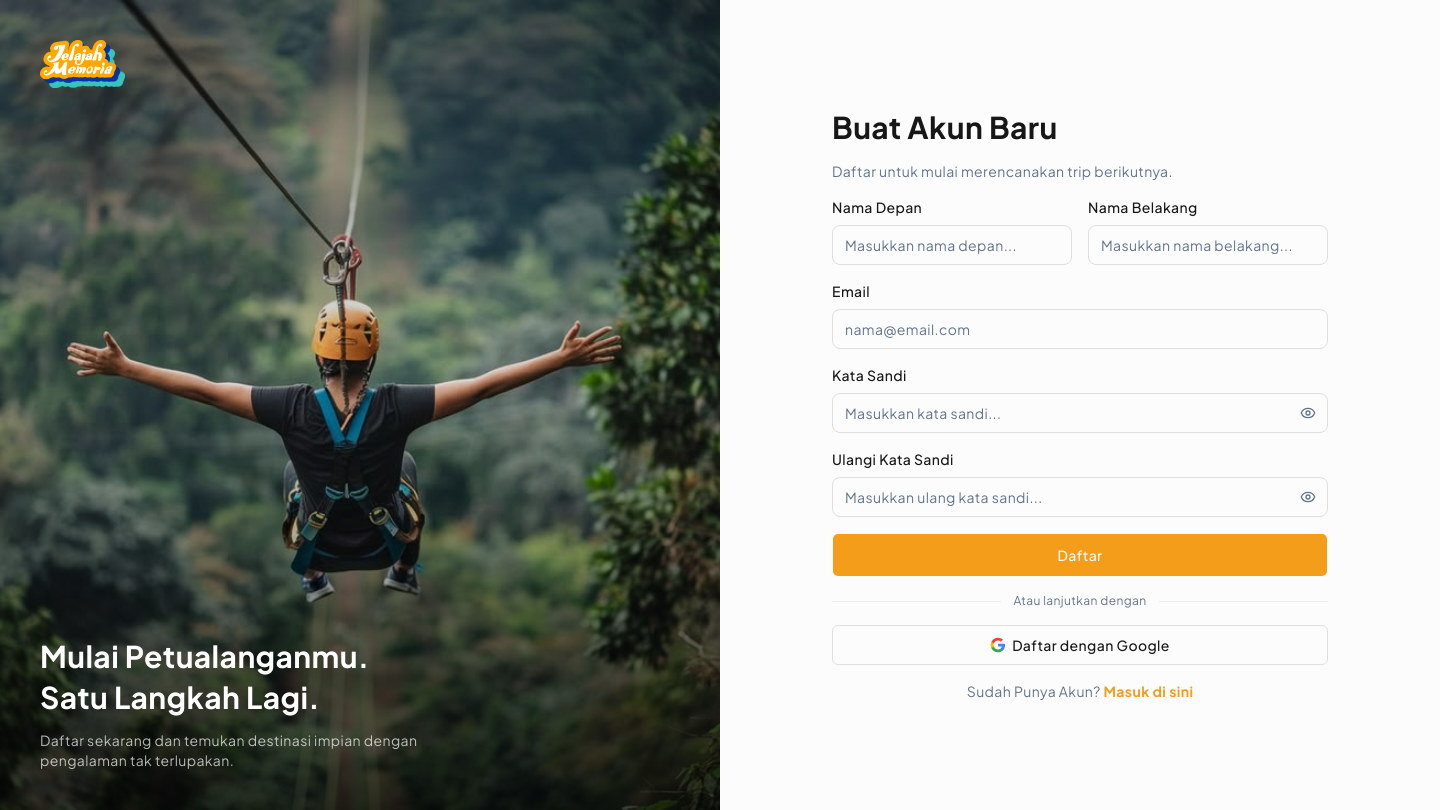
it: RegisterForm validasi › menghilangkan error satu field saat diketik setelah submit gagal
Click the button "Daftar". click: coordinates (1080, 555)
box: left=832, top=533, right=1328, bottom=577
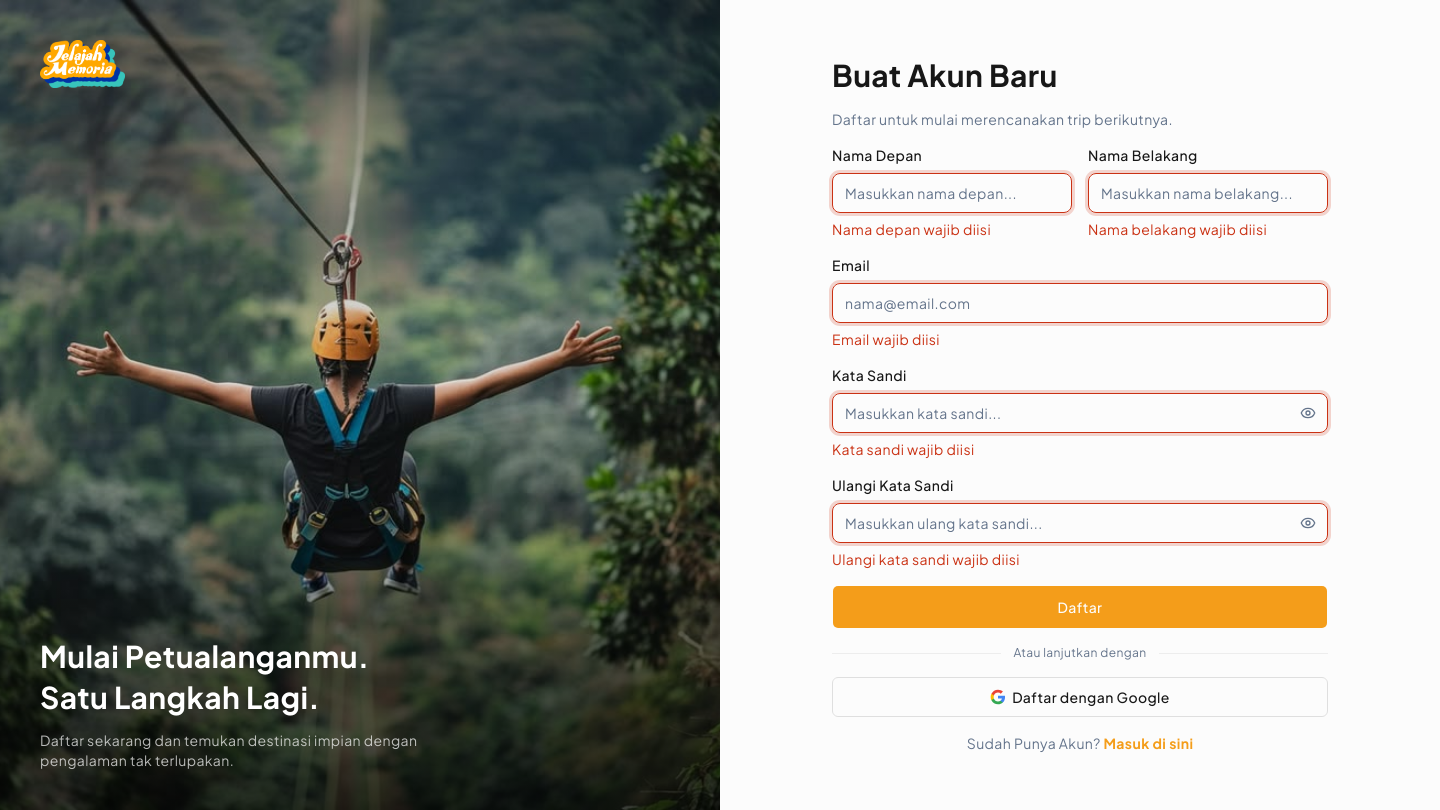
expect the text "Email wajib diisi" is shown: met, box left=832, top=330, right=940, bottom=348
Type "x" into the field labelled "Email". click: coordinates (1080, 303)
box: left=832, top=283, right=1328, bottom=323
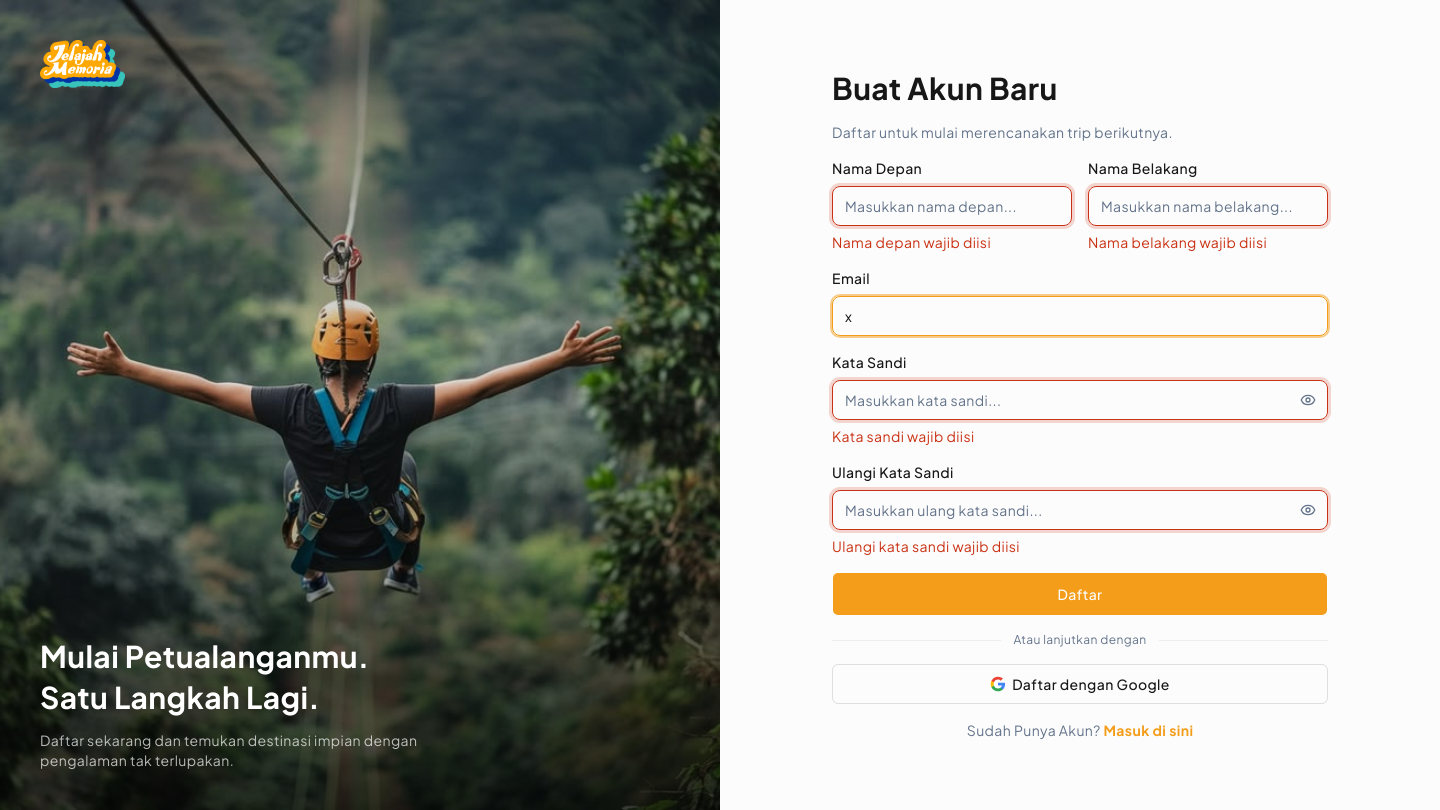
expect the text "Kata sandi wajib diisi" is shown: met, box left=832, top=427, right=974, bottom=445
expect the text "Email wajib diisi" is gone: met
